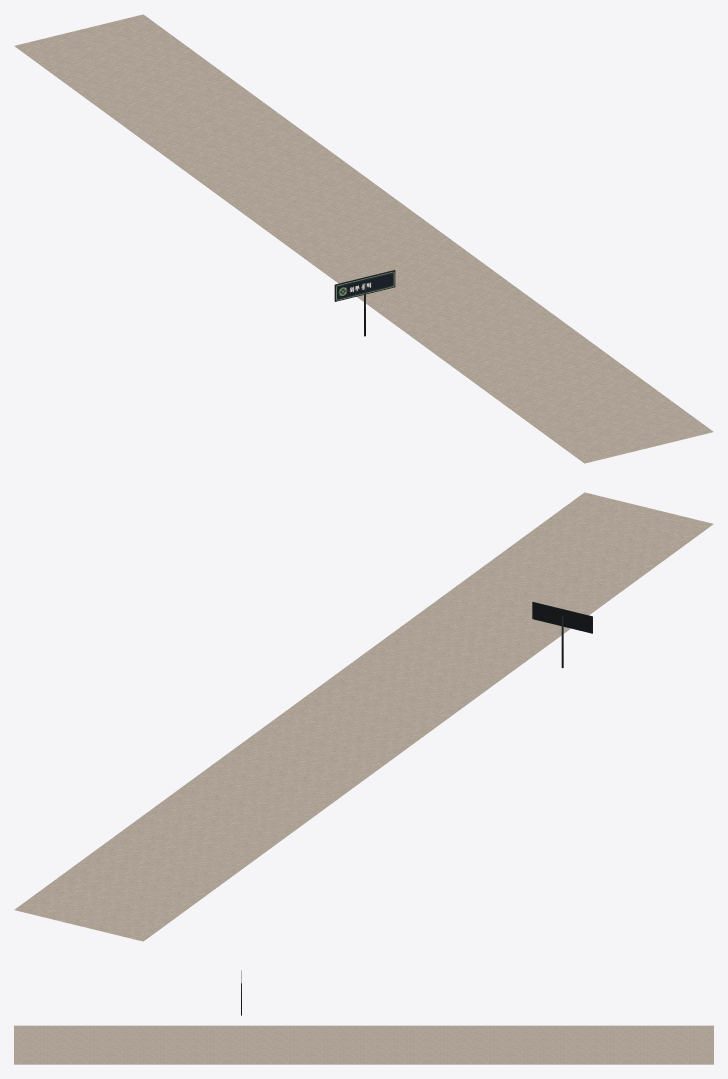
The model's file is explore3d__outside_threshold.glb.
The picture shows the model from 3 angles, top to bottom: view 1: azimuth 30°, elevation 25°; view 2: azimuth 150°, elevation 25°; view 3: azimuth 270°, elevation 25°; orthographic projection. The views are drawn at different scales.
Visible parts, largest first — view 1: Rebuilt_outside_threshold; view 2: Rebuilt_outside_threshold; view 3: Rebuilt_outside_threshold.
Boxes of the visible parts, x1=… form: Rebuilt_outside_threshold: x1=14, y1=14, x2=713, y2=463; Rebuilt_outside_threshold: x1=14, y1=492, x2=713, y2=941; Rebuilt_outside_threshold: x1=14, y1=970, x2=713, y2=1064.
Size of the model in its own units: 8.23 by 2.39 by 42.
Materials: 3 (3 with a texture image).
